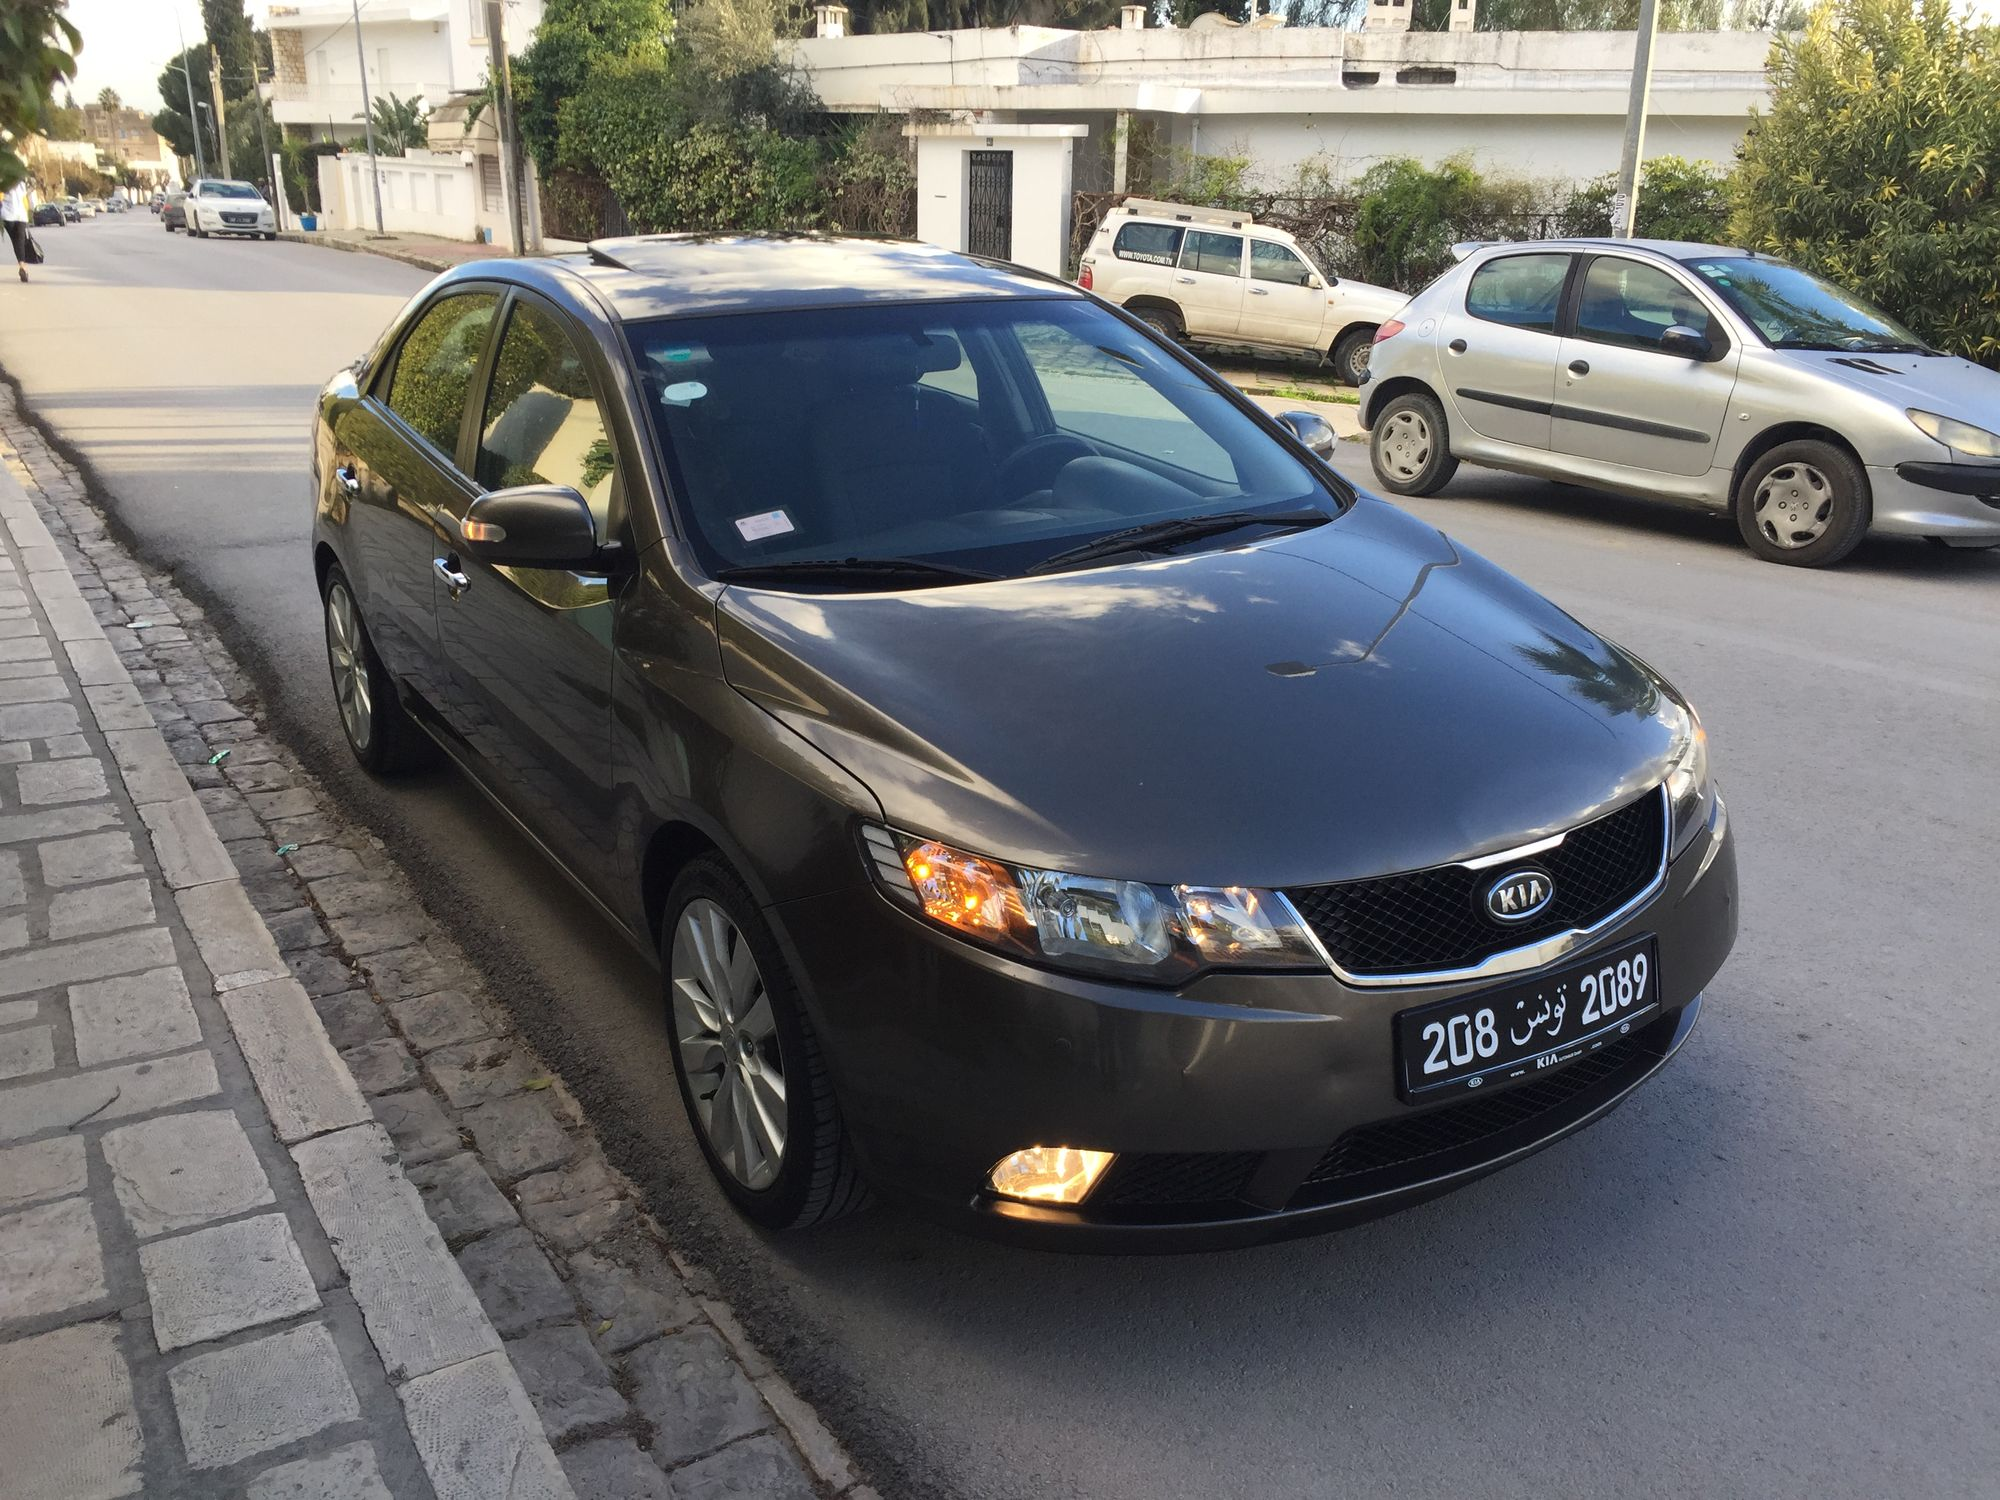LP: (1411, 951, 1654, 1091)
